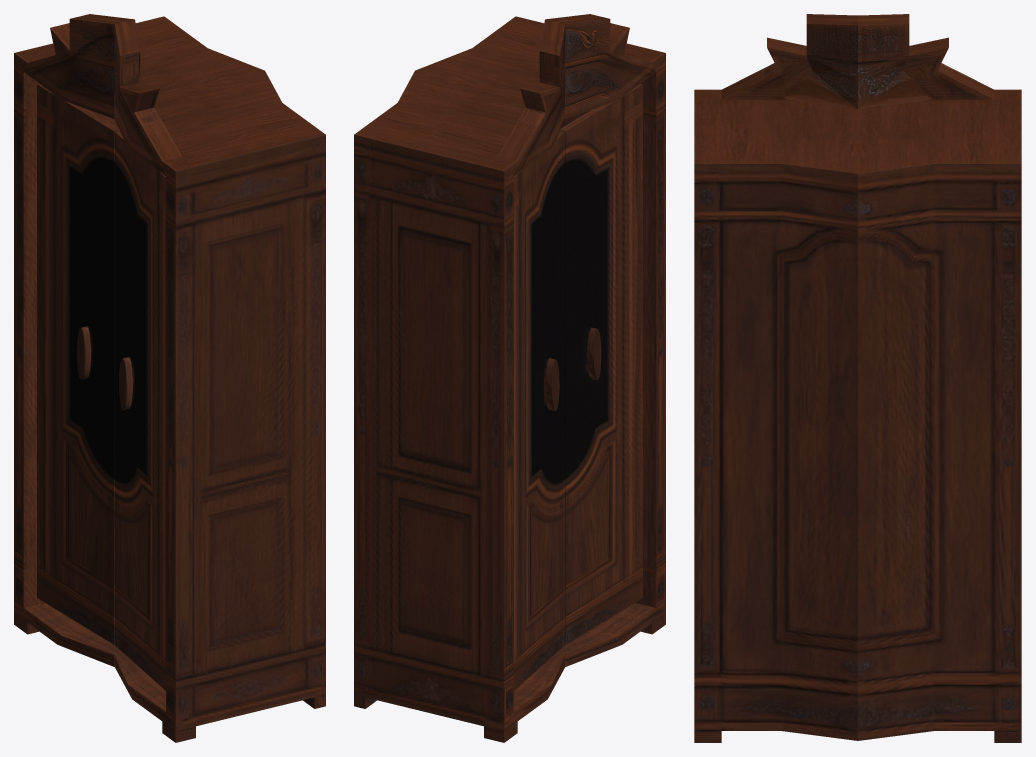
File: wardrobe.fbx
The picture shows the model from 3 angles, left to right: view 1: azimuth 30°, elevation 25°; view 2: azimuth 150°, elevation 25°; view 3: azimuth 270°, elevation 25°; orthographic projection.
Visible parts, largest first — view 1: Mesh_0; view 2: Mesh_0; view 3: Mesh_0.
Boxes of the visible parts, bbox=[...] form: Mesh_0: bbox=[14, 14, 325, 742]; Mesh_0: bbox=[354, 14, 665, 742]; Mesh_0: bbox=[694, 14, 1021, 742].
Bounding box in the file's own units: 54.39 × 200 × 89.55.
1 material, 1 textured.
